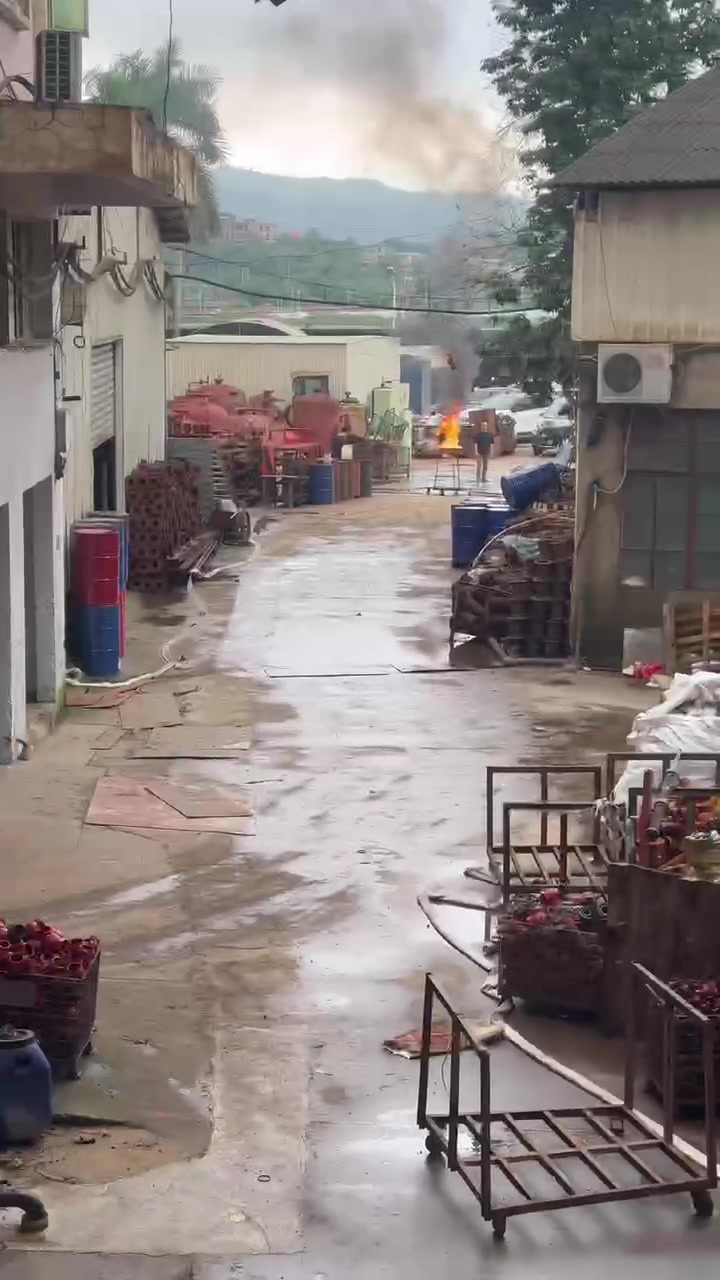fire: (435, 411, 460, 447)
